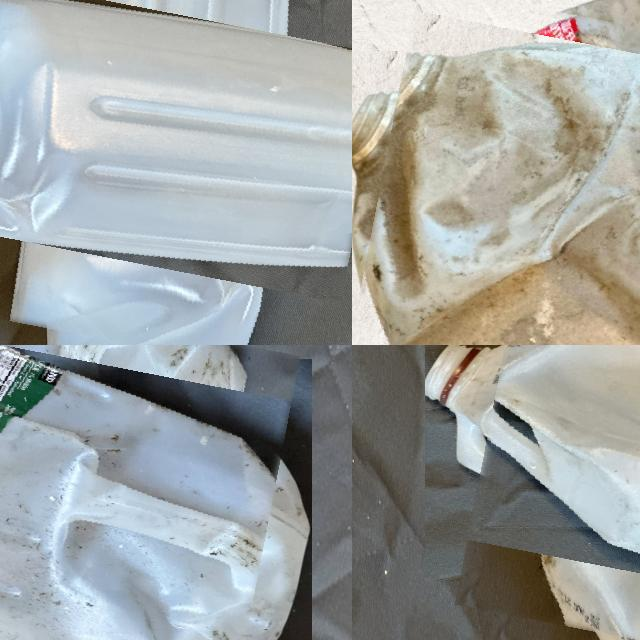milk-jug: (0, 0, 352, 345), (352, 5, 640, 345), (0, 345, 283, 640), (473, 345, 640, 640)
